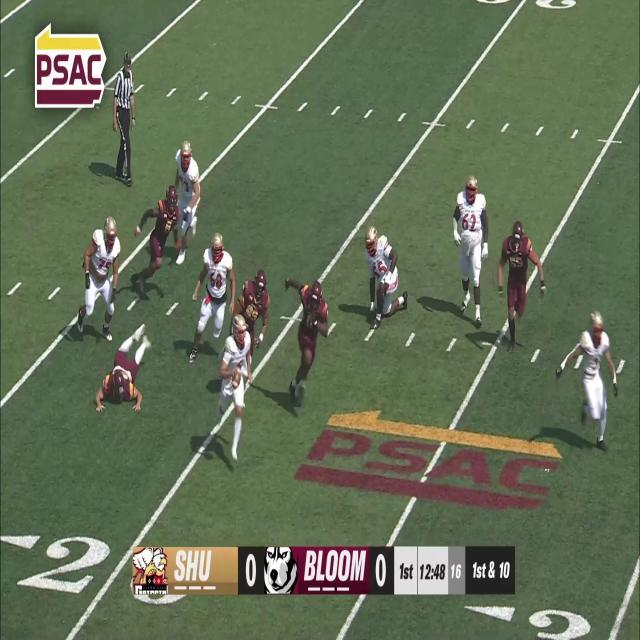football: (230, 370, 243, 388)
